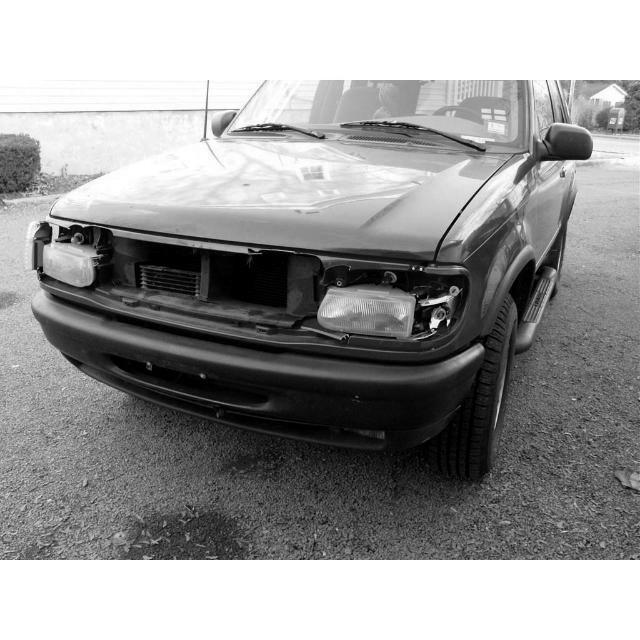front-bumper-dent: (17, 247, 463, 425)
